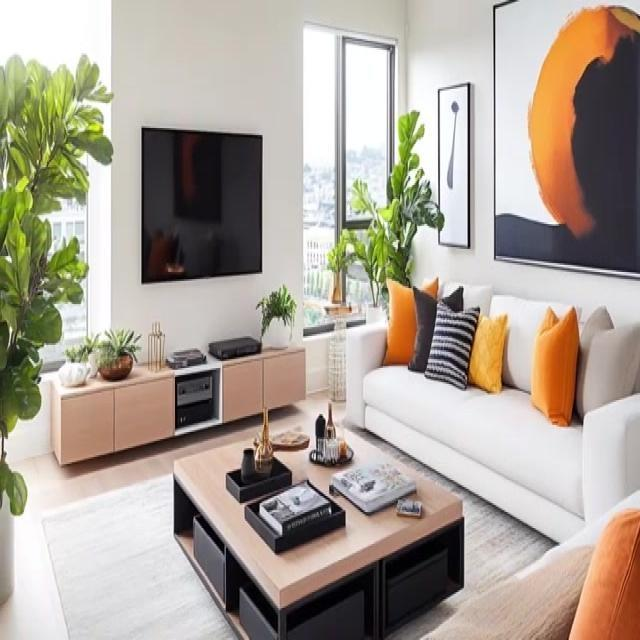obstacle: (343, 277, 639, 544), (172, 420, 464, 638), (46, 339, 306, 462)
